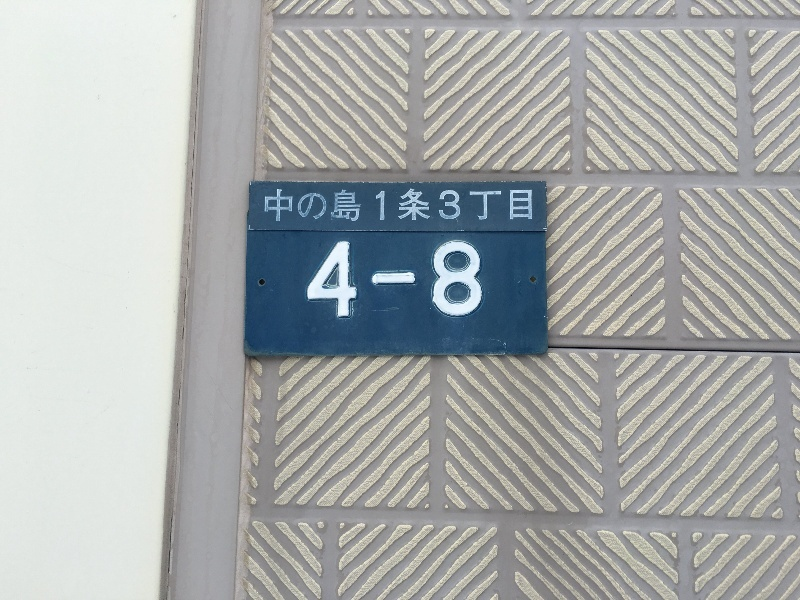text: (321, 240, 336, 320), (337, 240, 352, 320), (353, 240, 368, 320), (369, 240, 384, 320), (385, 240, 400, 320), (401, 240, 416, 320), (417, 240, 432, 320), (433, 240, 448, 320), (449, 240, 464, 320), (465, 240, 480, 320), (310, 240, 320, 320), (273, 186, 288, 223), (289, 186, 304, 223), (305, 186, 320, 223), (321, 186, 336, 223), (337, 186, 352, 223), (353, 186, 368, 223), (369, 186, 384, 223), (385, 186, 400, 223), (401, 186, 416, 223), (417, 186, 432, 223), (433, 186, 448, 223), (449, 186, 464, 223), (465, 186, 480, 223), (481, 186, 496, 223), (497, 186, 512, 223), (513, 186, 528, 223), (263, 186, 272, 223), (481, 240, 485, 320), (529, 186, 533, 223)
